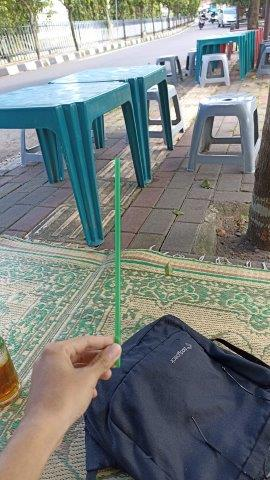sedotan: (114, 159, 120, 367)
